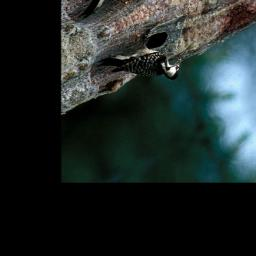Woodpecker: (95, 25, 189, 112)
